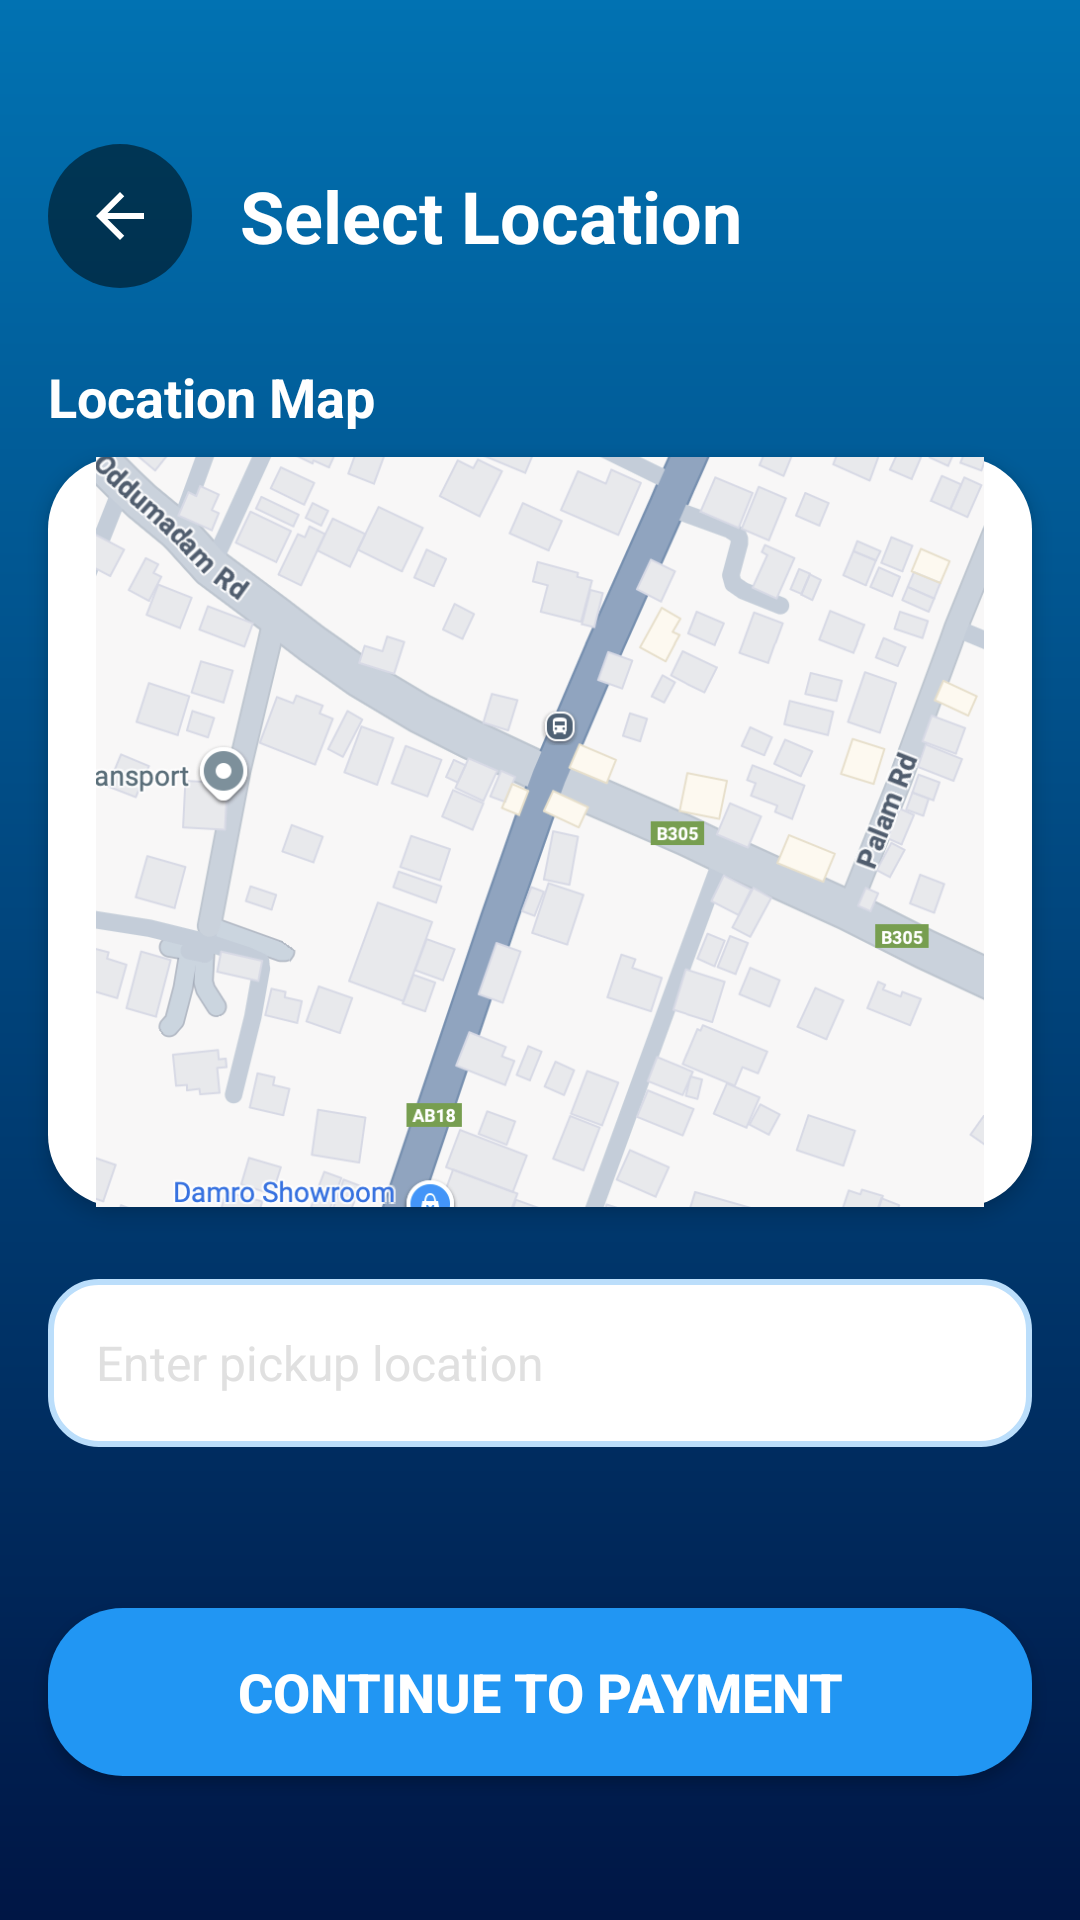

Icons on this 1080px×1920px Android screen, each with the point to tap as point (x, y):
back: point (120, 216)
